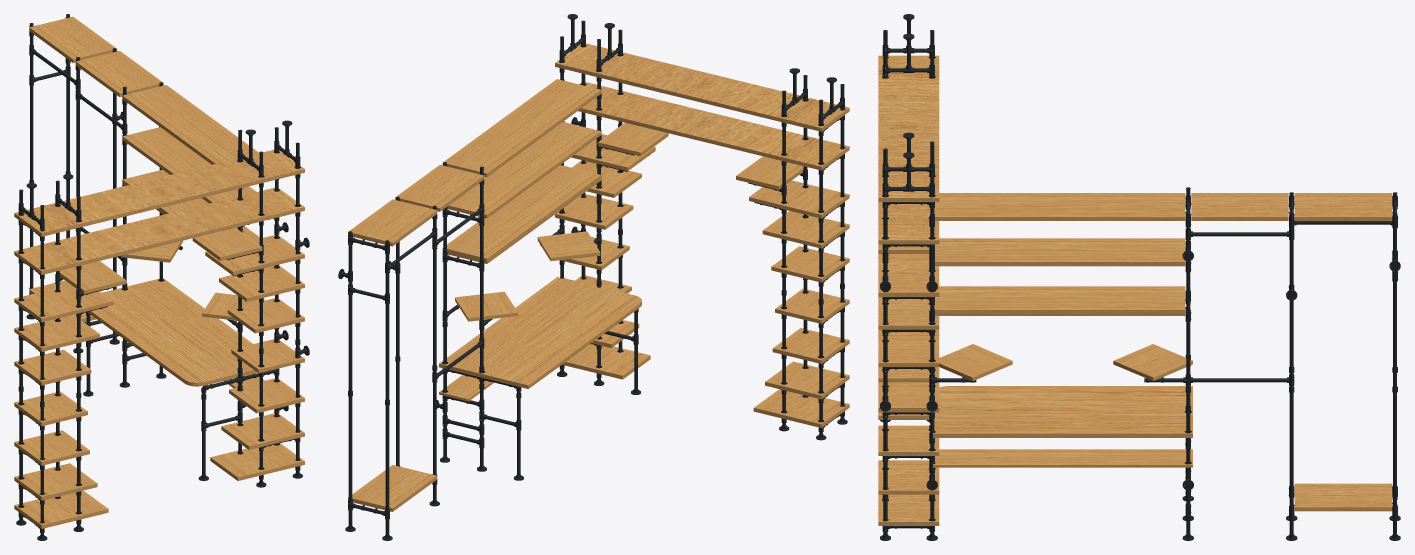
Rendered from assembly-portal.glb.
3 renders of one model, left to right at view 1: azimuth 30°, elevation 25°; view 2: azimuth 150°, elevation 25°; view 3: azimuth 270°, elevation 25°, orthographic. The views are drawn at different scales.
Visible parts, largest first — view 1: Desk.top / Oak cut board, Portal.lintel0 / Oak cut board, Portal.lintel1 / Oak cut board, Desk.shelf2 / Oak cut board, Desk.shelf1 / Oak cut board, Rack.top1 / Oak cut board, Rack.top0 / Oak cut board, Portal.shelfR0 / Oak cut board, Portal.shelfL6 / Oak cut board, Portal.shelfL0 / Oak cut board, Portal.shelfR5 / Oak cut board, Portal.shelfL5 / Oak cut board (+26 smaller); view 2: Desk.top / Oak cut board, Portal.lintel1 / Oak cut board, Portal.lintel0 / Oak cut board, Desk.shelf2 / Oak cut board, Desk.shelf0 / Oak cut board, Desk.shelf1 / Oak cut board, Rack.top1 / Oak cut board, Rack.top0 / Oak cut board, Rack.coat_shoes / Oak cut board, Portal.shelfL6 / Oak cut board, Portal.shelfL0 / Oak cut board, Portal.shelfL5 / Oak cut board (+19 smaller); view 3: Desk.top / Oak cut board, Portal.lintel1 / Oak cut board, Desk.shelf0 / Oak cut board, Desk.shelf1 / Oak cut board, Desk.shelf2 / Oak cut board, Desk.service_shelf / Oak cut board, Rack.coat_shoes / Oak cut board, Rack.top1 / Oak cut board, Rack.top0 / Oak cut board, Portal.lintel0 / Oak cut board, Portal.shelfR6 / Oak cut board, Portal.shelfR1 / Oak cut board (+11 smaller).
Part boxes in pixels (x1,y1,x2,y2): Desk.top / Oak cut board: [88, 278, 257, 386]; Portal.lintel0 / Oak cut board: [14, 187, 304, 274]; Portal.lintel1 / Oak cut board: [14, 149, 304, 236]; Desk.shelf2 / Oak cut board: [122, 85, 258, 164]; Desk.shelf1 / Oak cut board: [122, 127, 256, 203]; Rack.top1 / Oak cut board: [29, 16, 117, 62]; Rack.top0 / Oak cut board: [75, 50, 163, 96]; Portal.shelfR0 / Oak cut board: [210, 443, 304, 480]; Portal.shelfL6 / Oak cut board: [14, 284, 113, 322]; Portal.shelfL0 / Oak cut board: [14, 490, 108, 528]; Portal.shelfR5 / Oak cut board: [219, 265, 304, 301]; Portal.shelfL5 / Oak cut board: [14, 314, 99, 351]; Desk.top / Oak cut board: [439, 276, 641, 388]; Portal.lintel1 / Oak cut board: [555, 43, 849, 131]; Portal.lintel0 / Oak cut board: [578, 82, 849, 170]; Desk.shelf2 / Oak cut board: [442, 79, 601, 177]; Desk.shelf0 / Oak cut board: [442, 165, 601, 263]; Desk.shelf1 / Oak cut board: [447, 122, 601, 218]; Rack.top1 / Oak cut board: [348, 199, 437, 246]; Rack.top0 / Oak cut board: [395, 165, 484, 211]; Rack.coat_shoes / Oak cut board: [348, 465, 437, 511]; Portal.shelfL6 / Oak cut board: [749, 180, 849, 218]; Portal.shelfL0 / Oak cut board: [753, 389, 849, 427]; Portal.shelfL5 / Oak cut board: [762, 211, 849, 248]; Desk.top / Oak cut board: [933, 386, 1192, 437]; Portal.lintel1 / Oak cut board: [878, 55, 939, 201]; Desk.shelf0 / Oak cut board: [935, 286, 1185, 315]; Desk.shelf1 / Oak cut board: [935, 238, 1185, 266]; Desk.shelf2 / Oak cut board: [935, 193, 1185, 220]; Desk.service_shelf / Oak cut board: [933, 449, 1192, 467]; Rack.coat_shoes / Oak cut board: [1294, 483, 1392, 511]; Rack.top1 / Oak cut board: [1294, 193, 1392, 220]; Rack.top0 / Oak cut board: [1191, 193, 1288, 220]; Portal.lintel0 / Oak cut board: [878, 202, 939, 244]; Portal.shelfR6 / Oak cut board: [878, 254, 939, 296]; Portal.shelfR1 / Oak cut board: [878, 460, 939, 494].
Size of the model in its own units: 2.14 by 2.63 by 3.24.
3 materials, 1 textured.
